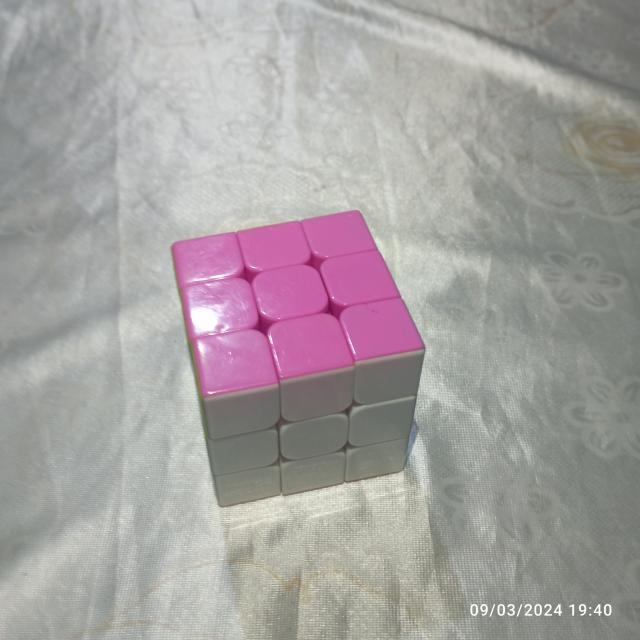Rub: (168, 204, 430, 508)
